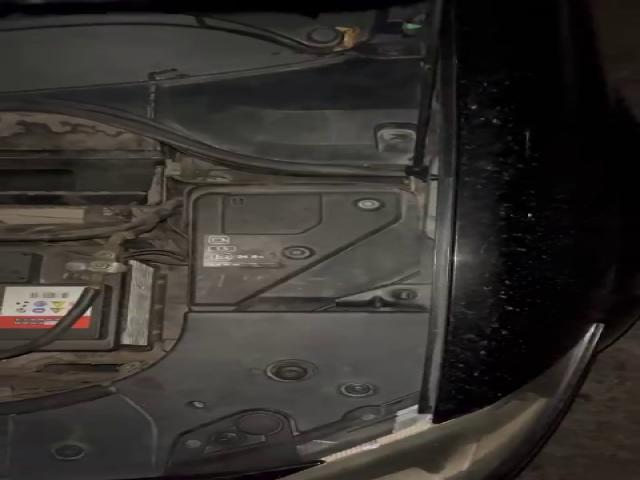accumulator: (3, 246, 160, 350)
fuse_box: (193, 193, 425, 305)
